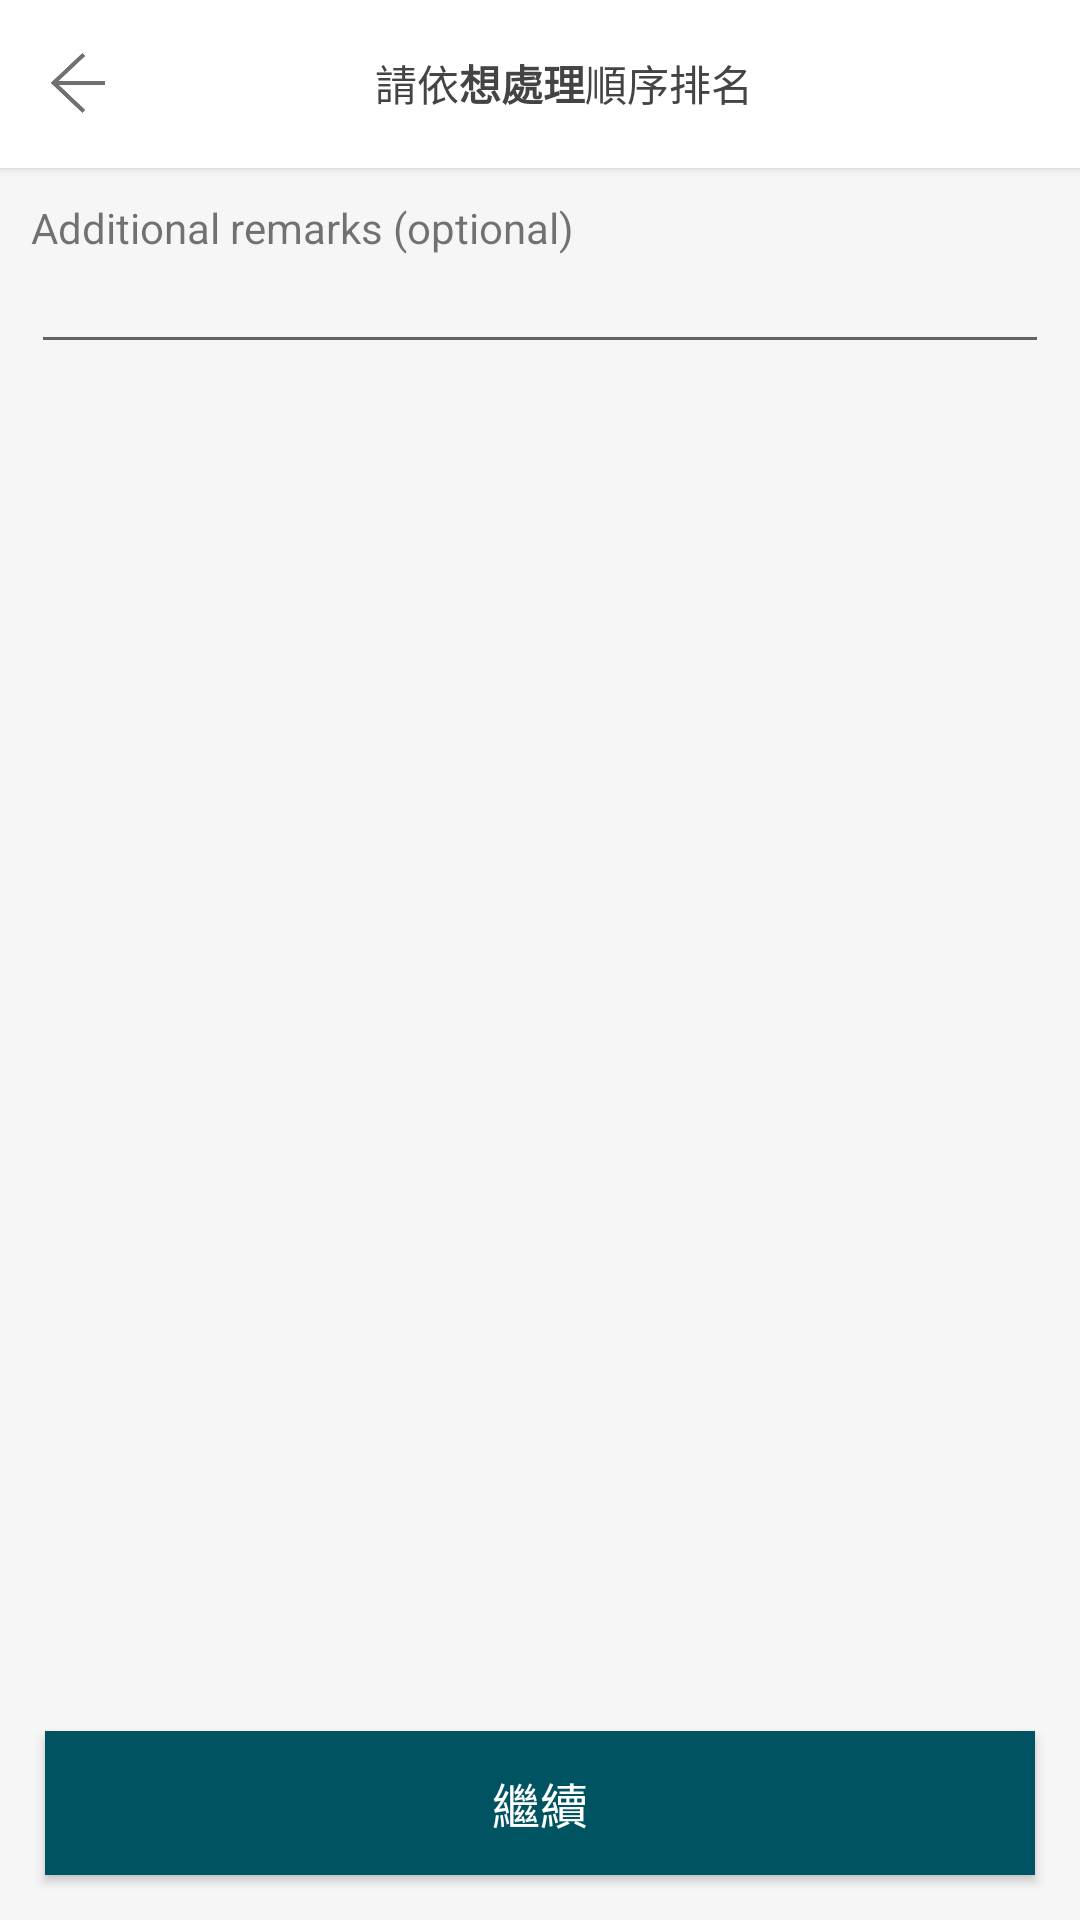

Named icons in this screenshot (1080w x 1920h) and their centers, point (x, y):
back: point (78, 83)
